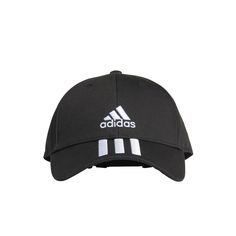adidas Originale: (93, 102, 142, 133)
